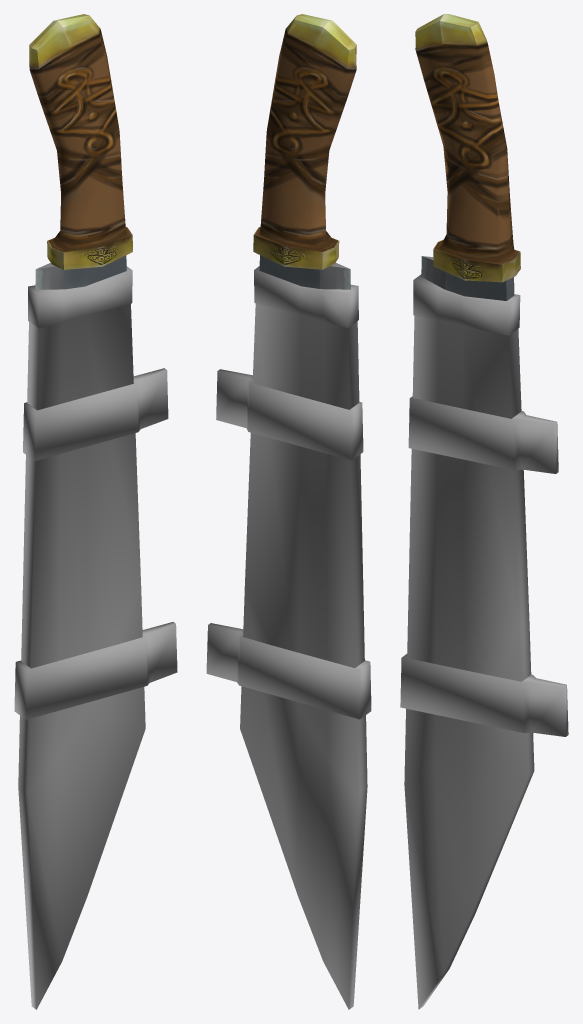
File: Seax.obj
3 renders of one model, left to right at view 1: azimuth 30°, elevation 25°; view 2: azimuth 150°, elevation 25°; view 3: azimuth 330°, elevation 25°, orthographic.
Parts seen in each view (by area): view 1: SeaxSheath_Cube.002_SeaxSheath_Cube.002, Seax_Cube.006_Seax_Cube.006; view 2: SeaxSheath_Cube.002_SeaxSheath_Cube.002, Seax_Cube.006_Seax_Cube.006; view 3: SeaxSheath_Cube.002_SeaxSheath_Cube.002, Seax_Cube.006_Seax_Cube.006.
Boxes of the visible parts, <box> form: SeaxSheath_Cube.002_SeaxSheath_Cube.002: <box>14,266,177,1009</box>; Seax_Cube.006_Seax_Cube.006: <box>29,14,132,289</box>; SeaxSheath_Cube.002_SeaxSheath_Cube.002: <box>206,266,371,1009</box>; Seax_Cube.006_Seax_Cube.006: <box>253,14,356,289</box>; SeaxSheath_Cube.002_SeaxSheath_Cube.002: <box>400,274,568,1009</box>; Seax_Cube.006_Seax_Cube.006: <box>415,14,520,300</box>.
Bounding box in the file's own units: 0.1619 × 0.968 × 0.0437.
